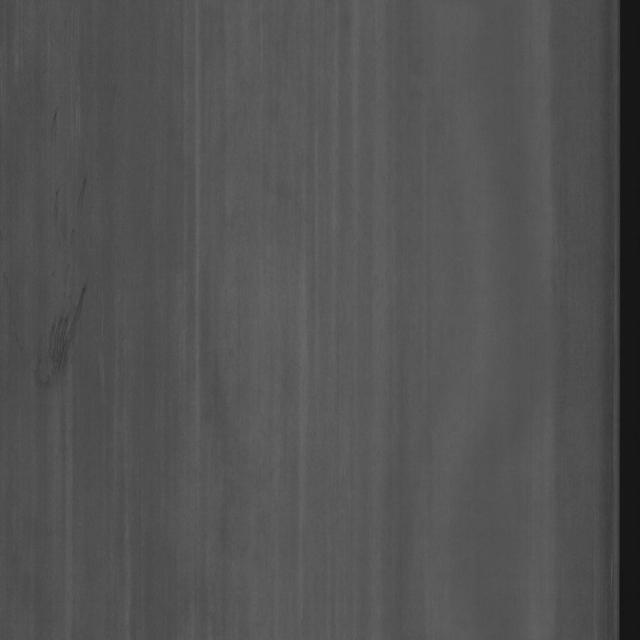water_spot: (35, 263, 91, 393)
